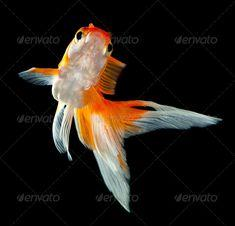goldfish: (37, 17, 164, 159)
